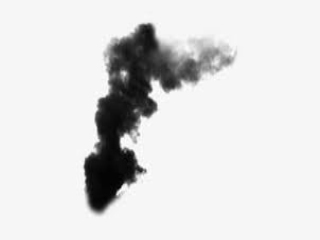smoke: (74, 24, 242, 214)
